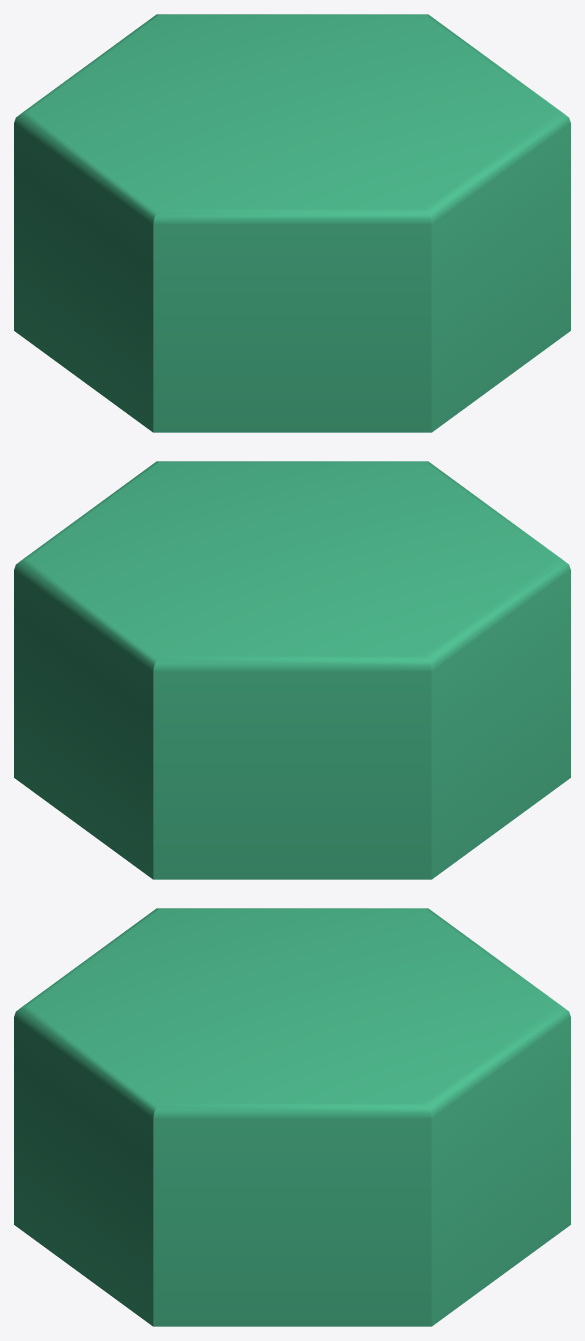
The model's file is hex_forest.gltf.
3 renders of one model, top to bottom at view 1: azimuth 30°, elevation 25°; view 2: azimuth 150°, elevation 25°; view 3: azimuth 270°, elevation 25°, orthographic.
Visible parts, largest first — view 1: hex_forest_Cylinder.506; view 2: hex_forest_Cylinder.506; view 3: hex_forest_Cylinder.506.
Boxes of the visible parts, x1=… form: hex_forest_Cylinder.506: x1=14, y1=14, x2=570, y2=432; hex_forest_Cylinder.506: x1=14, y1=461, x2=570, y2=879; hex_forest_Cylinder.506: x1=14, y1=908, x2=570, y2=1326.
Size of the model in its own units: 2 by 1 by 2.31.
